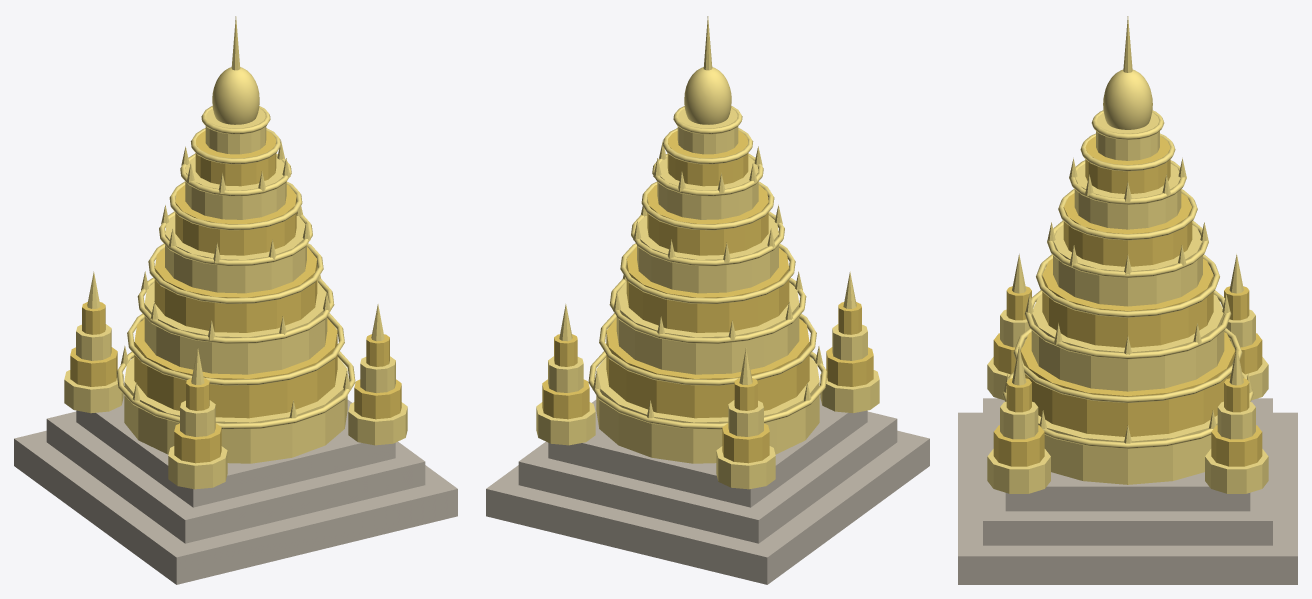
Rendered from prang.glb.
3 renders of one model, left to right at view 1: azimuth 30°, elevation 25°; view 2: azimuth 150°, elevation 25°; view 3: azimuth 270°, elevation 25°, orthographic. The views are drawn at different scales.
Visible parts, largest first — view 1: prang_base0, prang_base1, prang_base2, prang_t0, prang_t1, prang_t2, prang_t3, prang_t4, prang_t5, prang_t6, prang_t7, prang_bud (+22 smaller); view 2: prang_base0, prang_base1, prang_base2, prang_t0, prang_t1, prang_t2, prang_t3, prang_t4, prang_t5, prang_t6, prang_t7, prang_bud (+22 smaller); view 3: prang_base0, prang_base1, prang_t1, prang_t2, prang_t0, prang_base2, prang_t3, prang_t4, prang_t5, prang_t6, prang_t7, prang_bud (+26 smaller).
Part boxes in pixels (x1,y1,x2,y2): prang_base0: [14, 430, 457, 584]; prang_base1: [46, 411, 425, 543]; prang_base2: [76, 394, 395, 507]; prang_t0: [124, 357, 347, 463]; prang_t1: [134, 318, 337, 418]; prang_t2: [144, 281, 327, 374]; prang_t3: [154, 246, 317, 332]; prang_t4: [165, 215, 306, 293]; prang_t5: [175, 185, 296, 255]; prang_t6: [185, 156, 286, 219]; prang_t7: [195, 130, 276, 186]; prang_bud: [212, 67, 259, 124]; prang_base0: [486, 430, 929, 584]; prang_base1: [518, 411, 897, 543]; prang_base2: [548, 394, 867, 507]; prang_t0: [596, 357, 819, 463]; prang_t1: [606, 318, 809, 418]; prang_t2: [616, 281, 799, 374]; prang_t3: [626, 246, 789, 332]; prang_t4: [637, 215, 778, 293]; prang_t5: [647, 185, 768, 255]; prang_t6: [657, 156, 758, 219]; prang_t7: [667, 130, 748, 186]; prang_bud: [684, 67, 731, 124]; prang_base0: [958, 412, 1297, 584]; prang_base1: [983, 398, 1272, 545]; prang_t1: [1021, 332, 1234, 436]; prang_t2: [1031, 294, 1224, 391]; prang_t0: [1038, 415, 1217, 484]; prang_base2: [1005, 472, 1250, 511]; prang_t3: [1042, 258, 1213, 347]; prang_t4: [1053, 225, 1202, 306]; prang_t5: [1063, 193, 1192, 266]; prang_t6: [1074, 164, 1181, 229]; prang_t7: [1085, 136, 1170, 193]; prang_bud: [1103, 69, 1152, 129].
Bounding box in the file's own units: 7.5 × 12.15 × 7.5.
